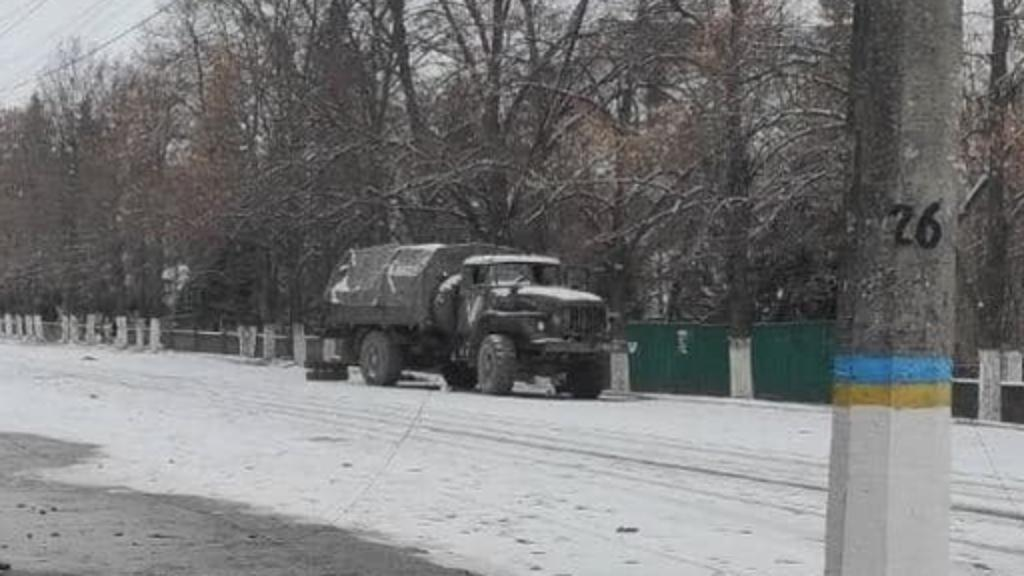TRUCK: (320, 232, 618, 404)
